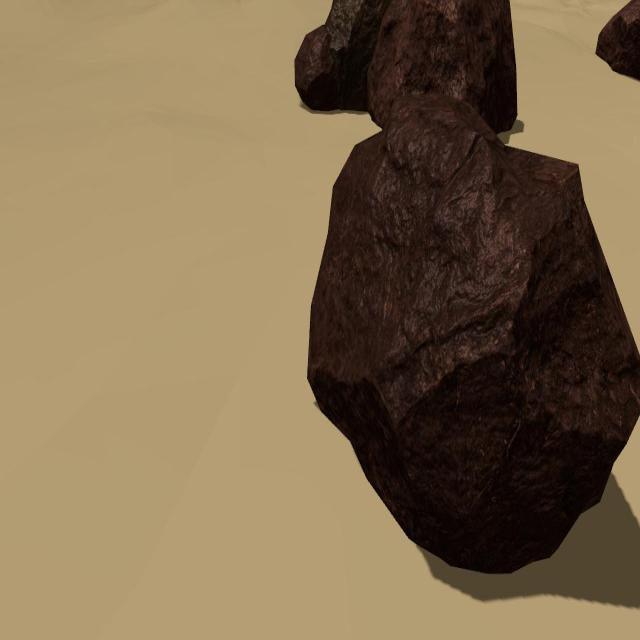rock: (306, 86, 640, 574), (367, 0, 518, 135), (322, 0, 388, 115), (295, 25, 341, 112), (595, 1, 640, 82)
